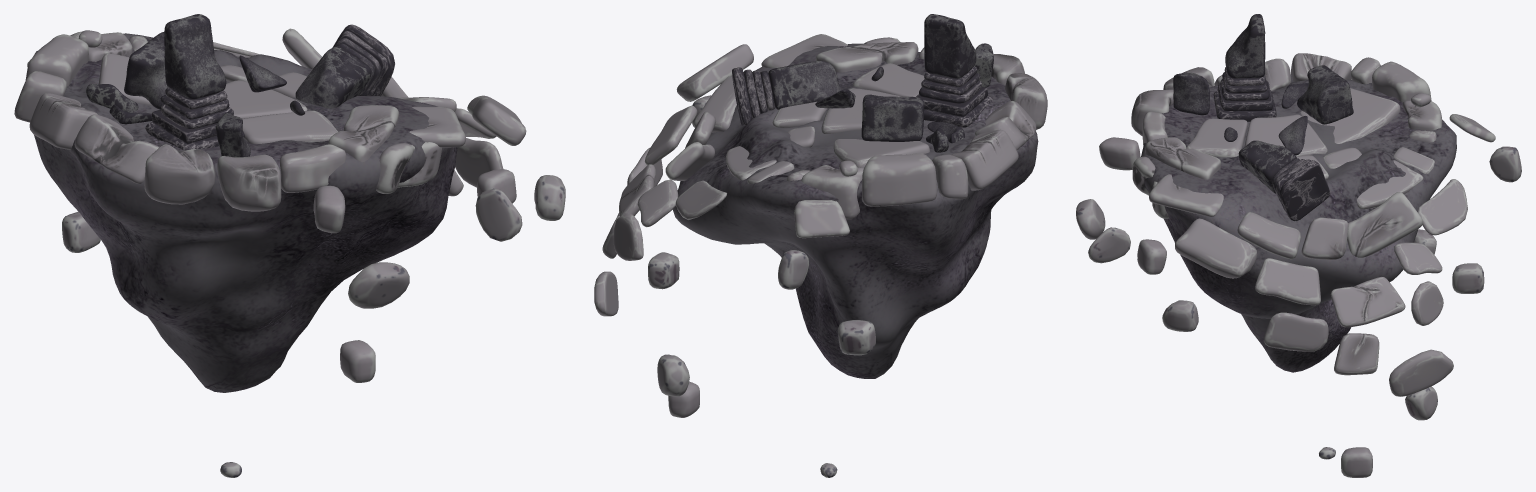
The model's file is stone.gltf.
3 renders of one model, left to right at view 1: azimuth 30°, elevation 25°; view 2: azimuth 150°, elevation 25°; view 3: azimuth 270°, elevation 25°, orthographic. The views are drawn at different scales.
Parts seen in each view (by area): view 1: land_land.001; view 2: land_land.001; view 3: land_land.001.
Boxes of the visible parts, <box> form: land_land.001: <box>14,14,565,477</box>; land_land.001: <box>594,14,1047,477</box>; land_land.001: <box>1076,14,1521,477</box>.
Size of the model in its own units: 21.81 by 24.27 by 24.26.
3 materials, 3 textured.
